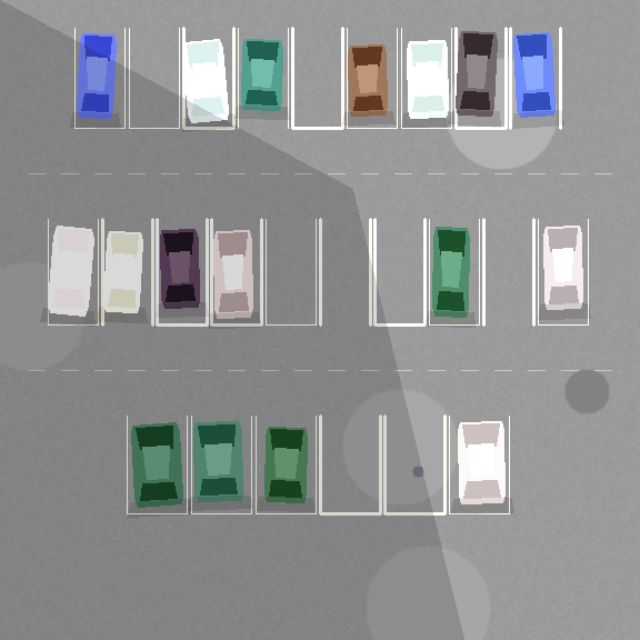space-empty: (320, 416, 380, 513), (384, 416, 444, 513), (266, 219, 316, 324), (320, 219, 370, 324), (374, 219, 424, 324), (483, 219, 533, 324), (129, 28, 179, 128), (292, 28, 342, 128)
space-occupied: (127, 416, 187, 513), (191, 416, 251, 513), (256, 416, 316, 513), (449, 416, 509, 513), (48, 219, 98, 324), (102, 219, 152, 324), (157, 219, 207, 324), (211, 219, 261, 324), (429, 219, 479, 324), (538, 219, 588, 324), (74, 28, 124, 128), (183, 28, 233, 128), (238, 28, 288, 128), (347, 28, 397, 128), (401, 28, 451, 128), (456, 28, 506, 128), (510, 28, 560, 128)
